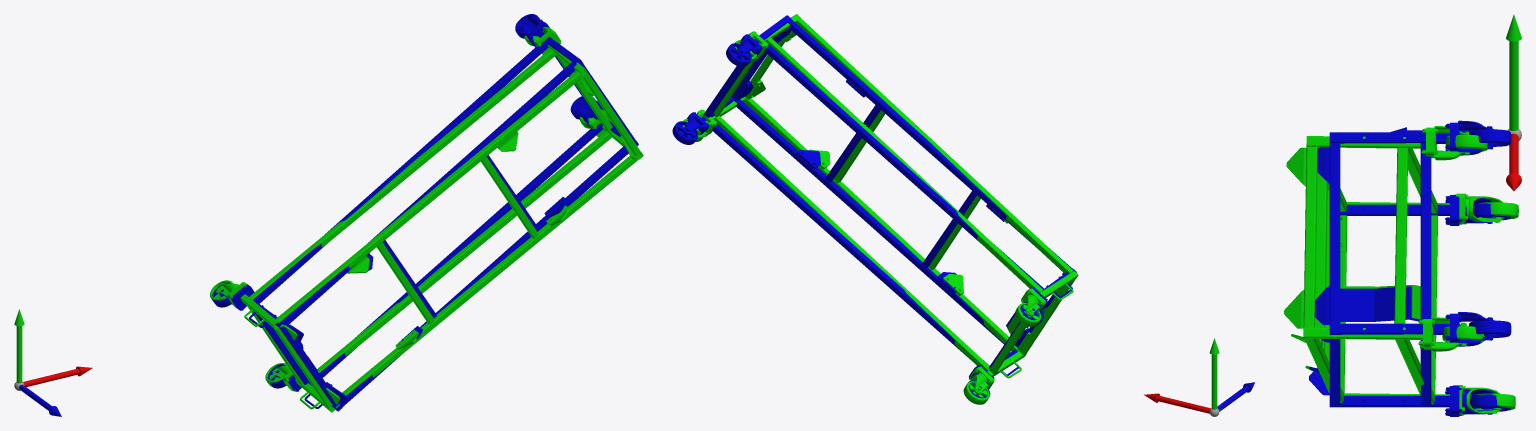
Rendered from combined_scene_sample_747.glb.
3 renders of one model, left to right at view 1: azimuth 30°, elevation 25°; view 2: azimuth 150°, elevation 25°; view 3: azimuth 270°, elevation 25°, orthographic. The views are drawn at different scales.
Visible parts, largest first — view 1: pred, gt, frame; view 2: gt, pred, frame; view 3: gt, pred, frame.
Boxes of the visible parts, x1,y1,x2,y2 form: pred: [210, 24, 643, 412]; gt: [212, 14, 638, 411]; frame: [14, 309, 92, 416]; gt: [672, 15, 1076, 398]; pred: [682, 14, 1078, 404]; frame: [1144, 338, 1254, 416]; gt: [1309, 120, 1511, 416]; pred: [1284, 126, 1518, 415]; frame: [1390, 14, 1521, 190].
Size of the model in its own units: 3.9 by 2.02 by 0.8905.
